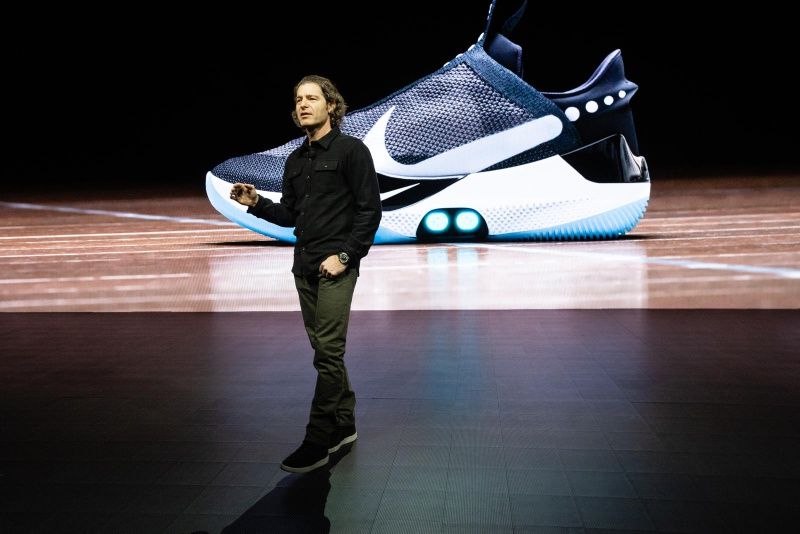nike: (362, 111, 576, 186)
